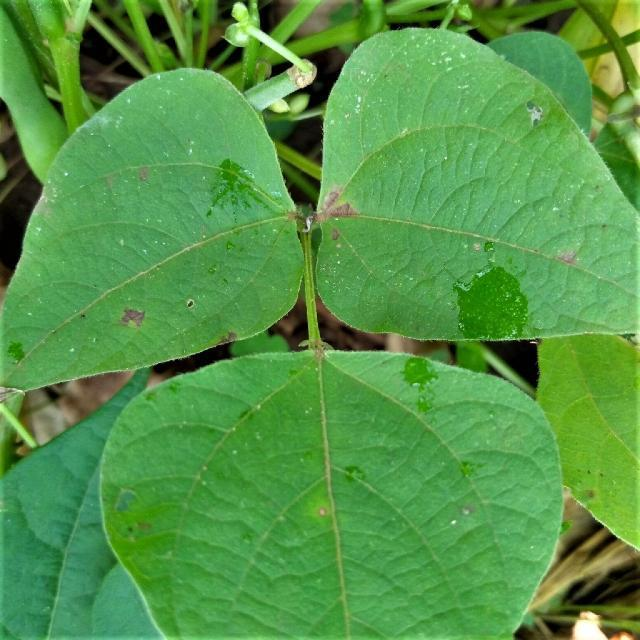embun tepung: (314, 19, 527, 139), (32, 93, 234, 207), (460, 157, 605, 239), (191, 396, 294, 494)
sehat: (250, 556, 508, 640)
